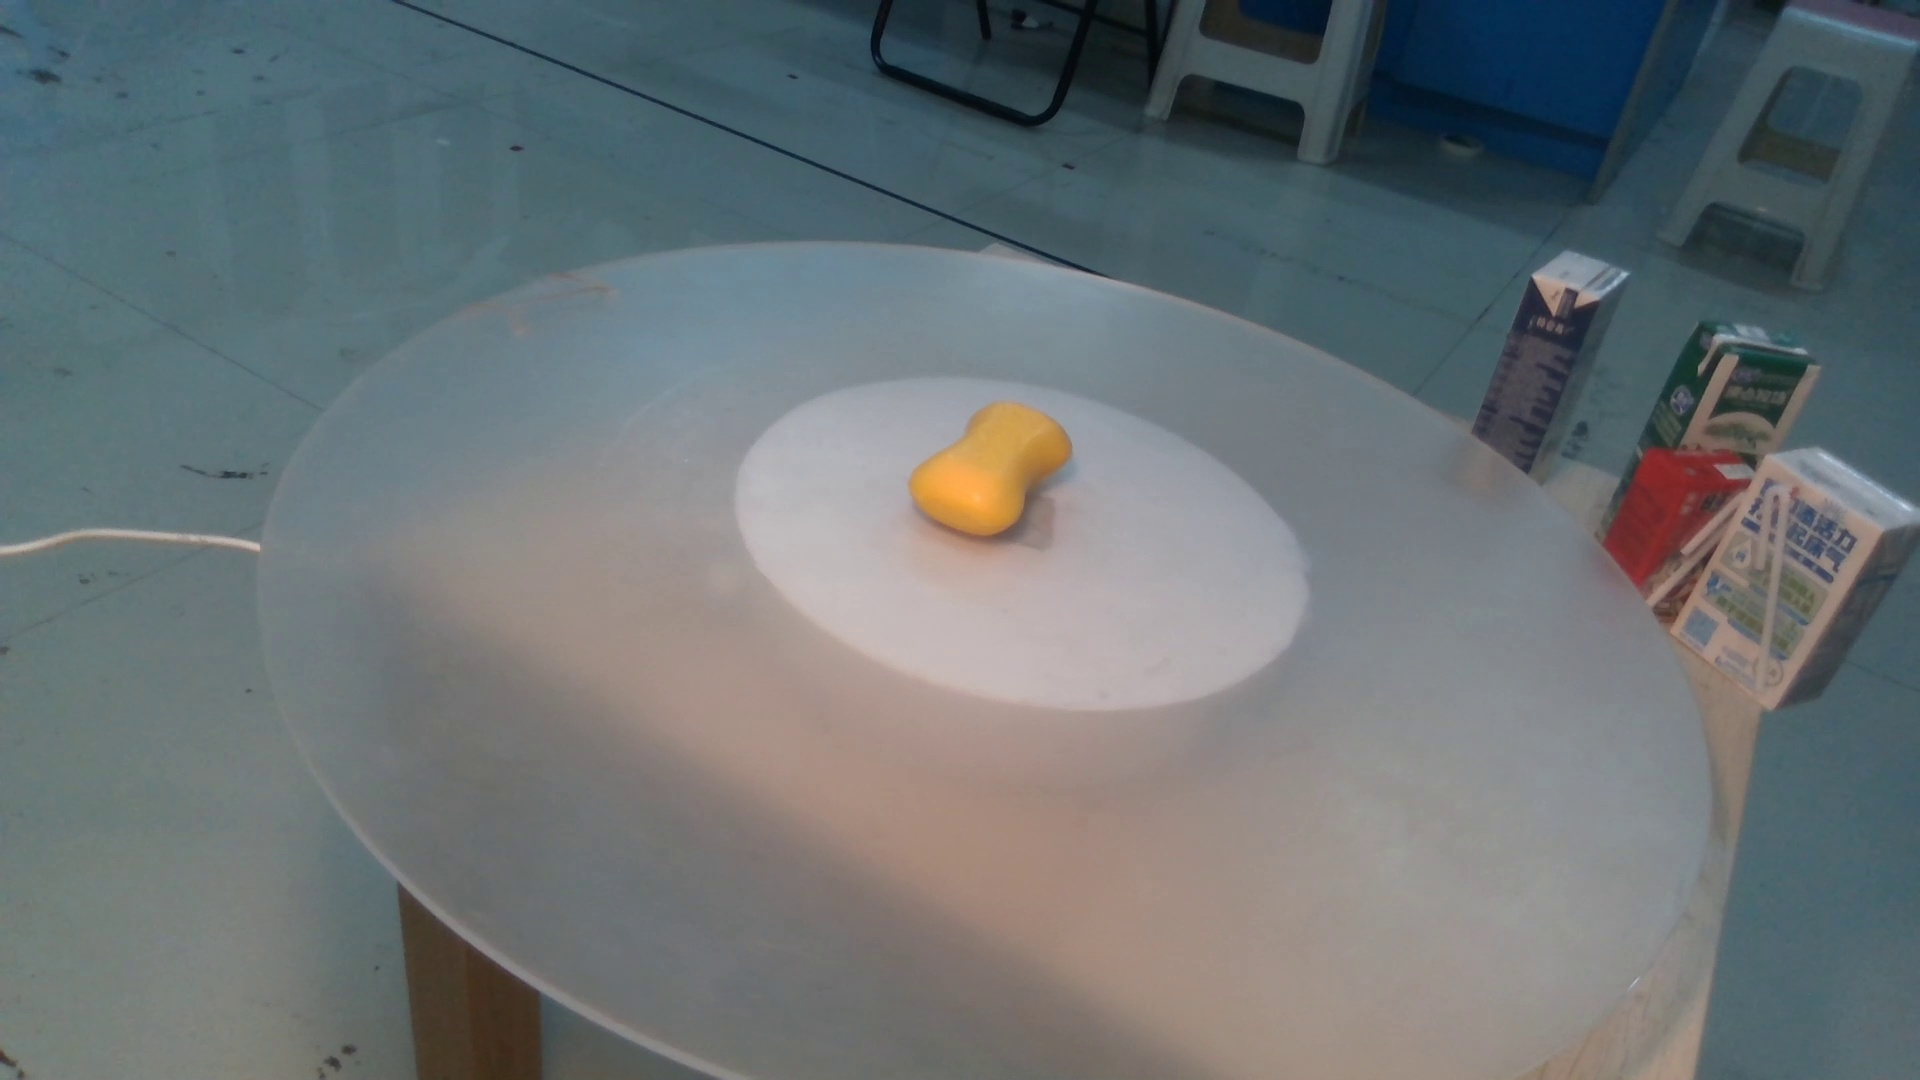CA003_1: (902, 402, 1131, 554)
